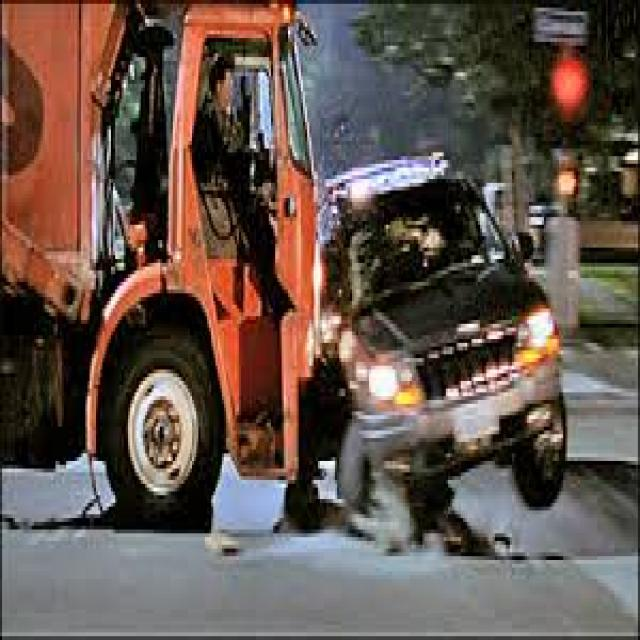accident: (103, 16, 594, 600)
